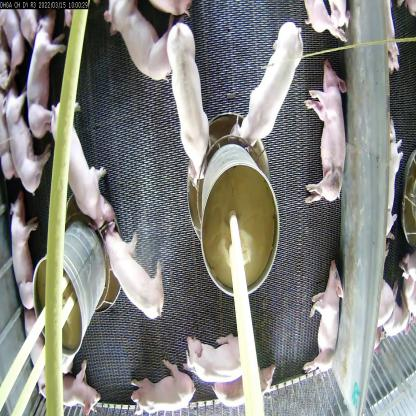Pig: (228, 18, 313, 159), (45, 90, 112, 238), (168, 12, 214, 180), (99, 221, 170, 324), (107, 0, 173, 93), (308, 60, 347, 214), (304, 256, 343, 396), (23, 11, 62, 142), (181, 336, 253, 389), (7, 198, 35, 316), (3, 95, 34, 200), (208, 368, 276, 413), (128, 368, 196, 406), (42, 374, 100, 414)
